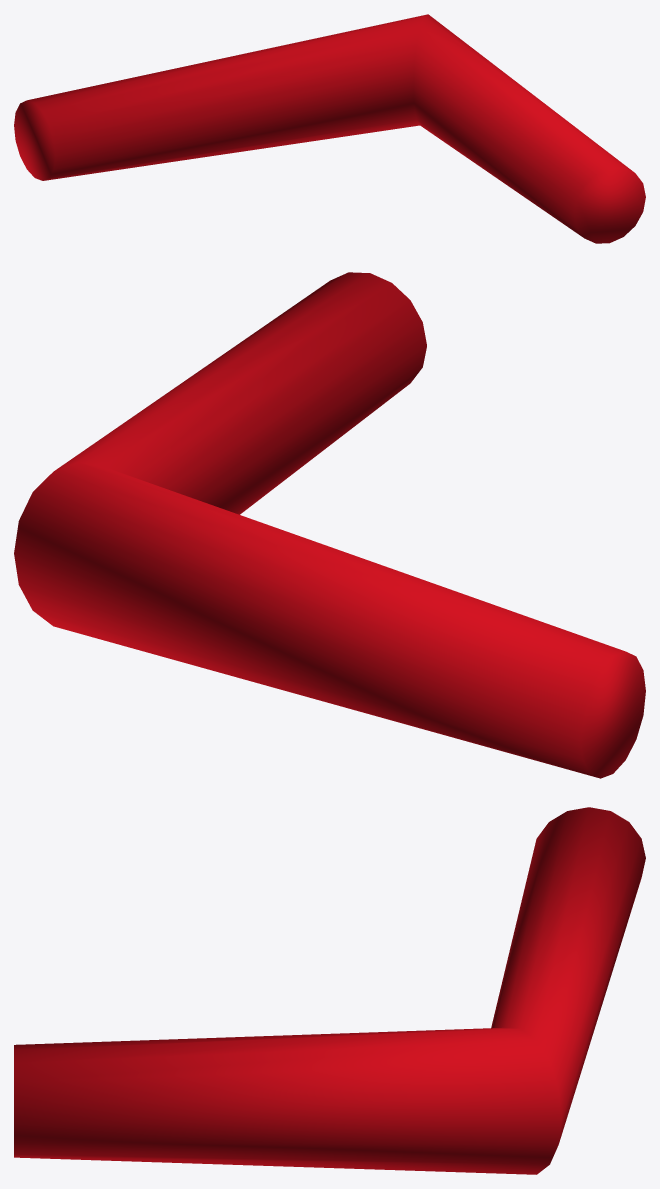
Rendered from cable3.glb.
3 renders of one model, top to bottom at view 1: azimuth 30°, elevation 25°; view 2: azimuth 150°, elevation 25°; view 3: azimuth 270°, elevation 25°, orthographic. The views are drawn at different scales.
Visible parts, largest first — view 1: cable3; view 2: cable3; view 3: cable3.
Boxes of the visible parts, left/top/right/bottom form: cable3: left=14, top=14, right=645, bottom=243; cable3: left=14, top=272, right=645, bottom=778; cable3: left=14, top=807, right=645, bottom=1174.
Size of the model in its own units: 1 by 0.2533 by 1.
